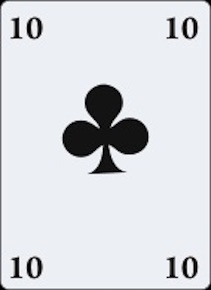TenOfClubs: (3, 2, 208, 286)
